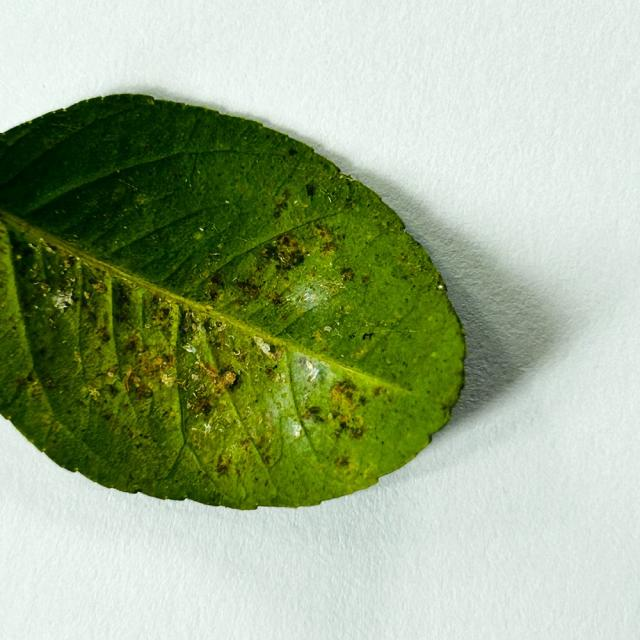Bacterial_Blight: (123, 338, 174, 397), (194, 356, 238, 396), (266, 235, 309, 271), (328, 380, 361, 415), (218, 355, 244, 394), (314, 273, 349, 299), (233, 278, 261, 299), (190, 395, 213, 416), (122, 369, 140, 395), (132, 380, 153, 402), (197, 360, 219, 381), (151, 303, 171, 322), (124, 334, 142, 355), (266, 289, 286, 306), (315, 225, 335, 242), (255, 434, 272, 453), (272, 198, 289, 217), (215, 456, 231, 475), (95, 325, 111, 342), (209, 272, 225, 289), (106, 381, 122, 398), (347, 425, 365, 440), (85, 381, 101, 397), (29, 382, 44, 398), (340, 267, 355, 282), (334, 455, 351, 468), (280, 235, 297, 248), (62, 256, 77, 270), (270, 347, 284, 362), (353, 346, 369, 359), (91, 281, 106, 294), (264, 366, 277, 381), (373, 385, 388, 397), (208, 288, 221, 301), (43, 377, 57, 389), (14, 377, 27, 388), (314, 330, 324, 344), (73, 349, 82, 364), (277, 252, 287, 263), (262, 454, 272, 465), (342, 304, 353, 314), (360, 275, 371, 285), (44, 245, 55, 254), (40, 283, 50, 292), (106, 370, 115, 378), (190, 373, 199, 381), (83, 291, 90, 299), (191, 323, 197, 331)
Lemon: (0, 93, 467, 513)
